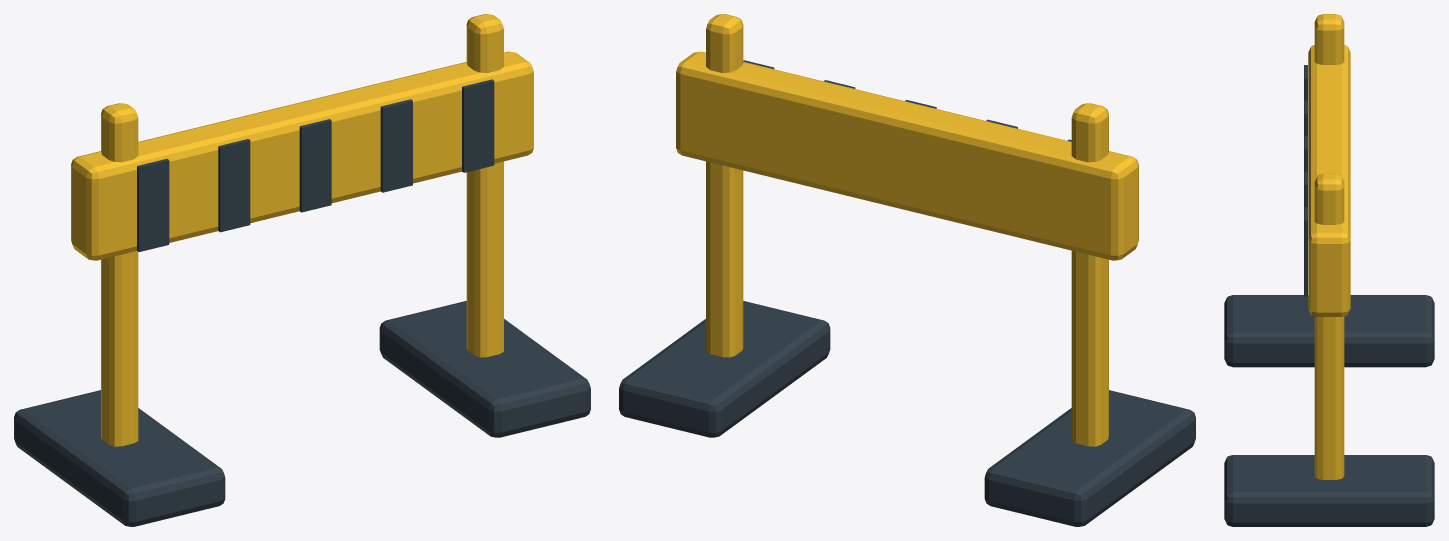
The model's file is obstacle.glb.
3 views of the same model, side by side, from view 1: azimuth 30°, elevation 25°; view 2: azimuth 150°, elevation 25°; view 3: azimuth 270°, elevation 25° (orthographic). The views are drawn at different scales.
Parts seen in each view (by area): view 1: Safety barrier, Barrier foot.001, Barrier foot, Barrier post, Barrier post.001, Barrier stripe, Barrier stripe.002, Barrier stripe.001, Barrier stripe.003, Barrier stripe.004; view 2: Safety barrier, Barrier foot.001, Barrier foot, Barrier post, Barrier post.001; view 3: Barrier foot.001, Barrier foot, Safety barrier, Barrier post.001, Barrier post, Barrier stripe.004.
Boxes of the visible parts, <box> form: Safety barrier: <box>71,51,533,260</box>; Barrier foot.001: <box>379,301,590,437</box>; Barrier foot: <box>14,390,225,526</box>; Barrier post: <box>101,103,138,446</box>; Barrier post.001: <box>466,14,503,357</box>; Barrier stripe: <box>137,158,169,251</box>; Barrier stripe.002: <box>299,119,331,212</box>; Barrier stripe.001: <box>218,139,250,232</box>; Barrier stripe.003: <box>380,99,412,192</box>; Barrier stripe.004: <box>462,79,494,172</box>; Safety barrier: <box>676,51,1138,260</box>; Barrier foot.001: <box>619,301,830,437</box>; Barrier foot: <box>984,390,1195,526</box>; Barrier post: <box>1071,103,1108,446</box>; Barrier post.001: <box>706,14,743,357</box>; Barrier foot.001: <box>1224,455,1434,526</box>; Barrier foot: <box>1224,295,1434,367</box>; Safety barrier: <box>1308,45,1350,316</box>; Barrier post.001: <box>1314,173,1344,479</box>; Barrier post: <box>1314,14,1344,64</box>; Barrier stripe.004: <box>1304,207,1307,296</box>.
Size of the model in its own units: 1.15 by 0.87 by 0.5.
